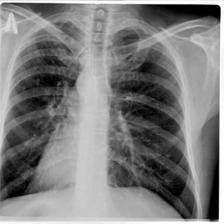tuberculosis: (2, 8, 204, 221)
